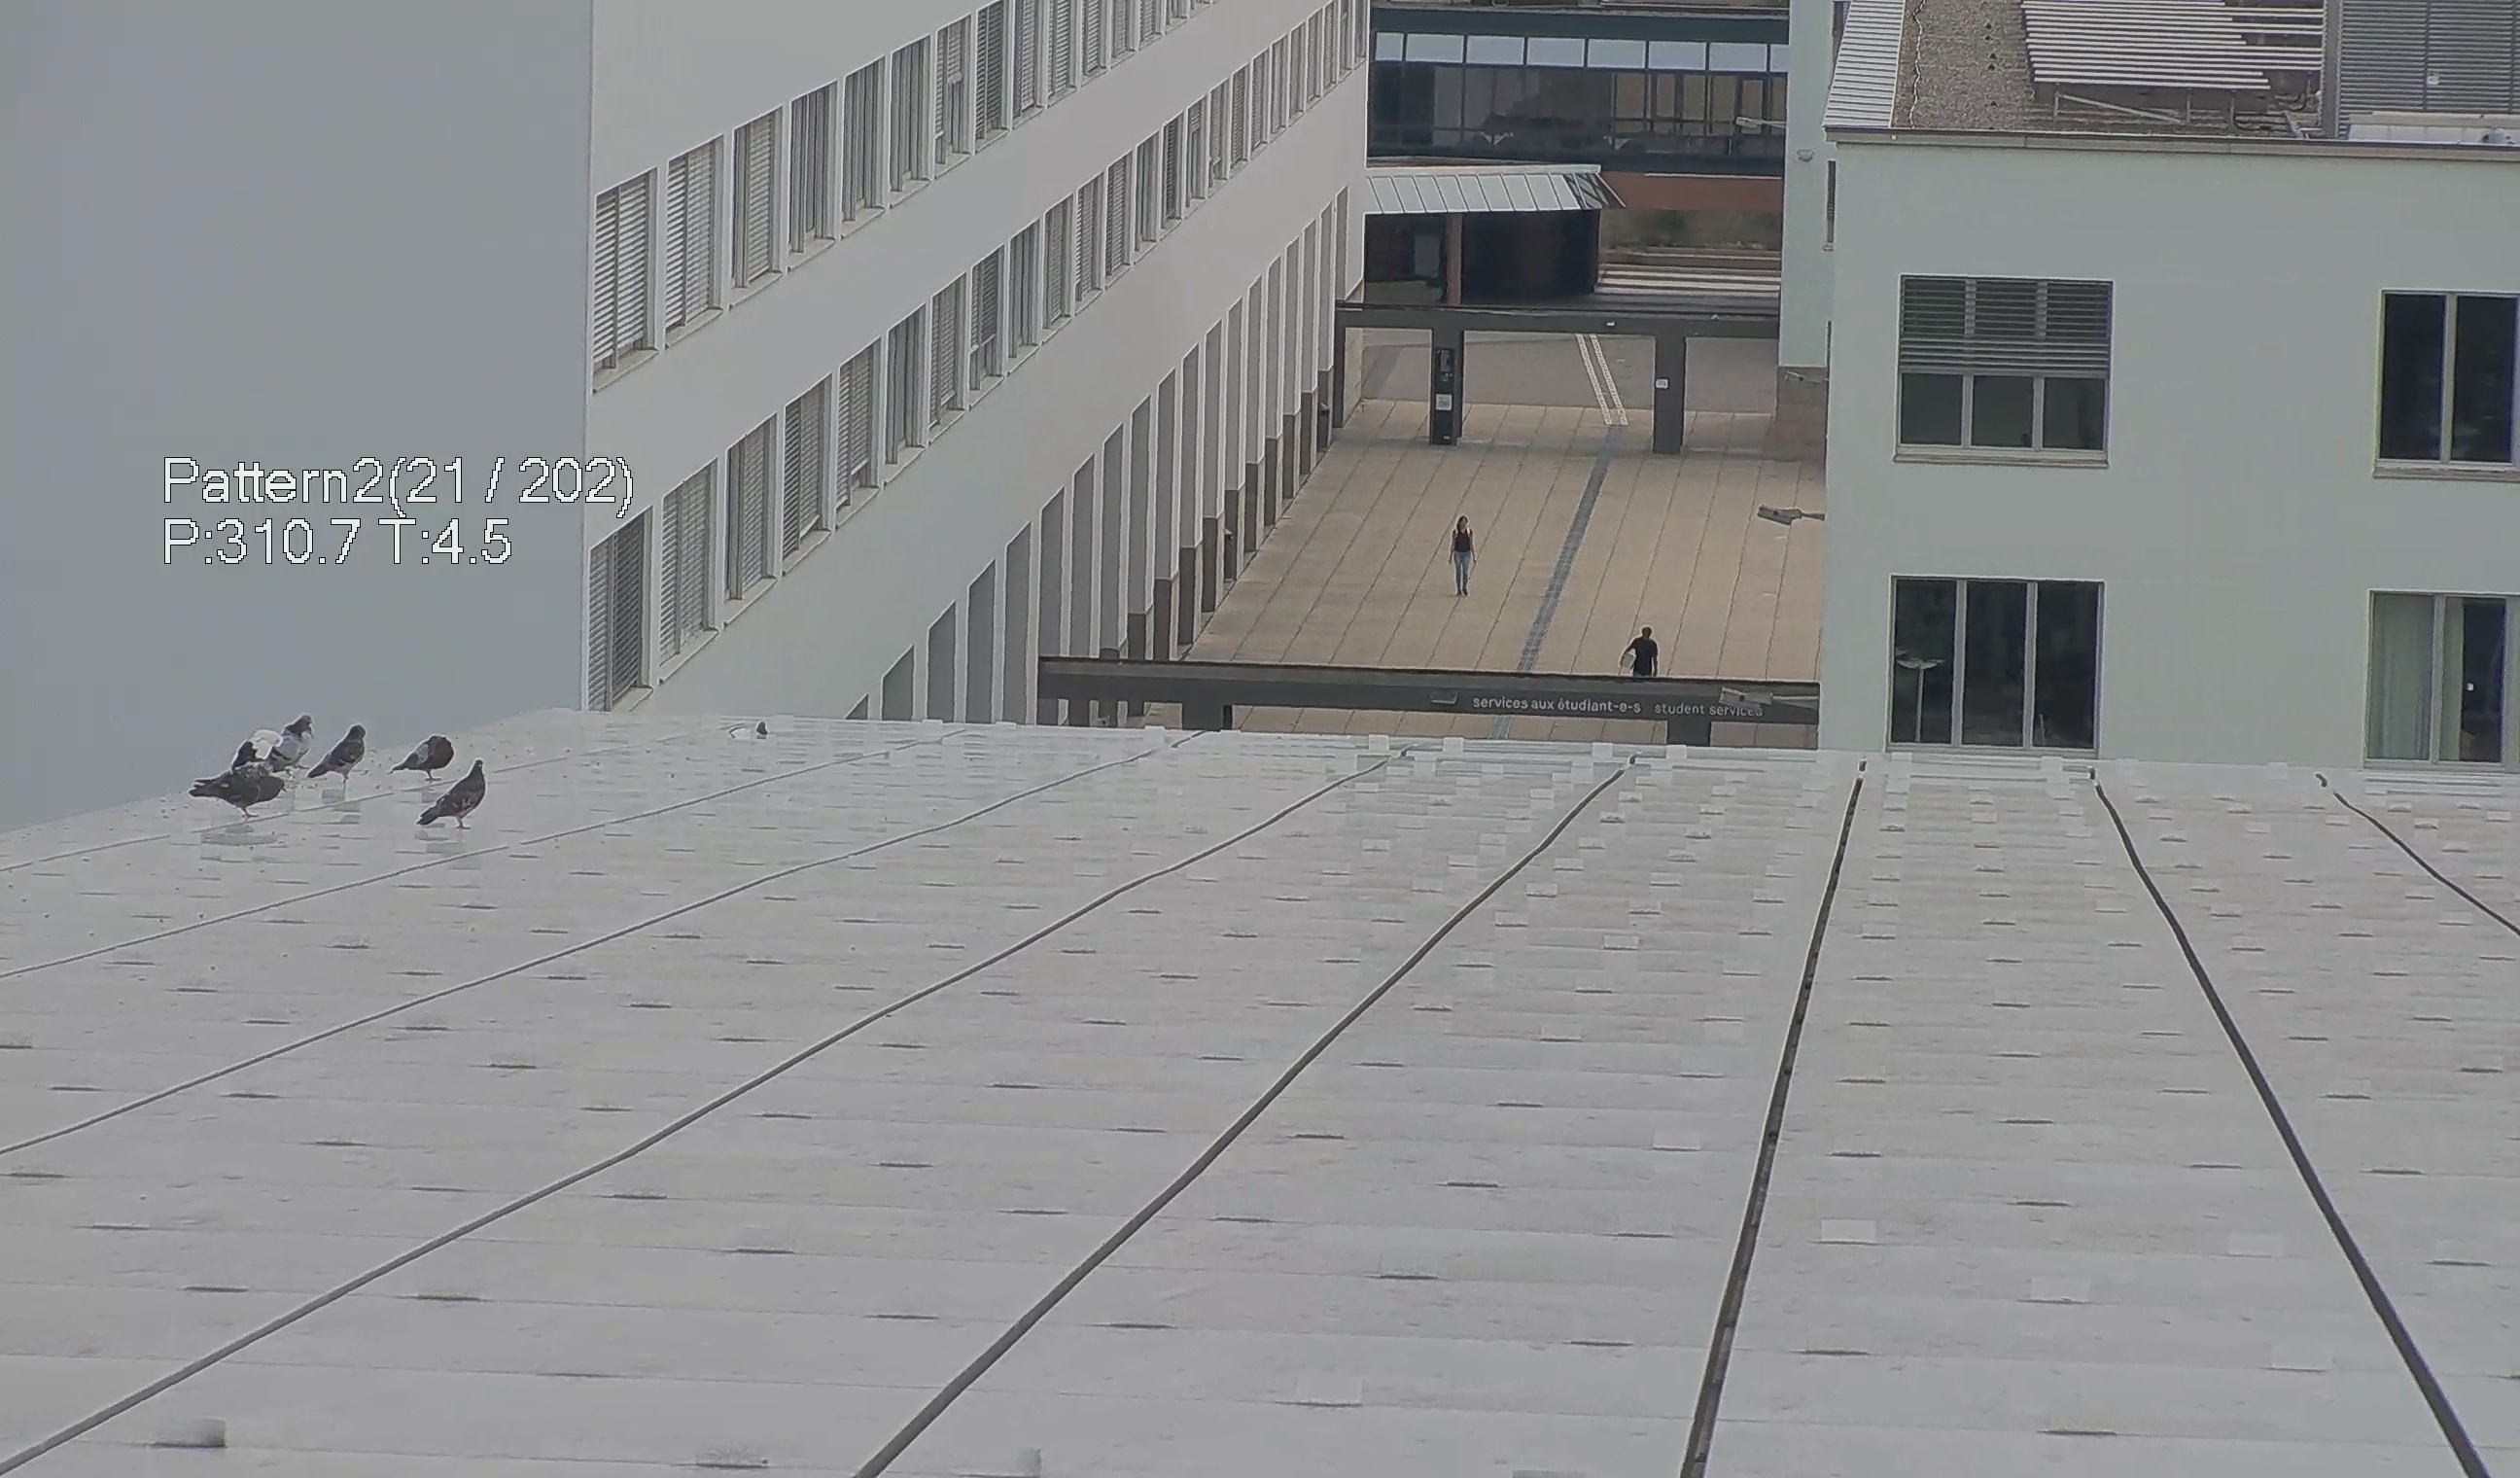Pigeon: (415, 746, 510, 846), (188, 755, 292, 838), (299, 721, 371, 799), (389, 730, 464, 787), (227, 723, 294, 781), (274, 697, 331, 765)
